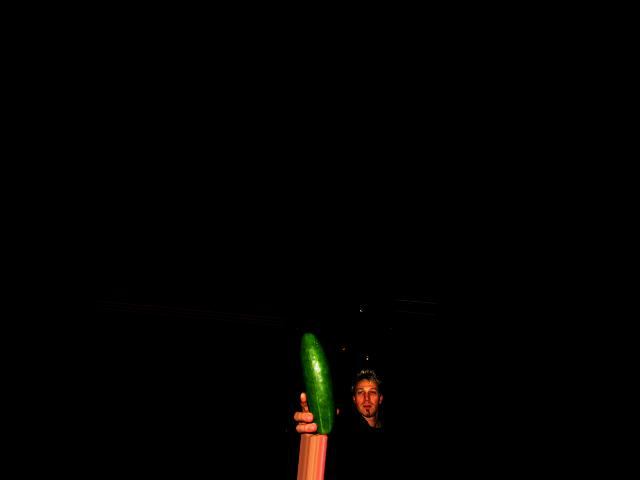cucumber: (291, 332, 342, 434)
